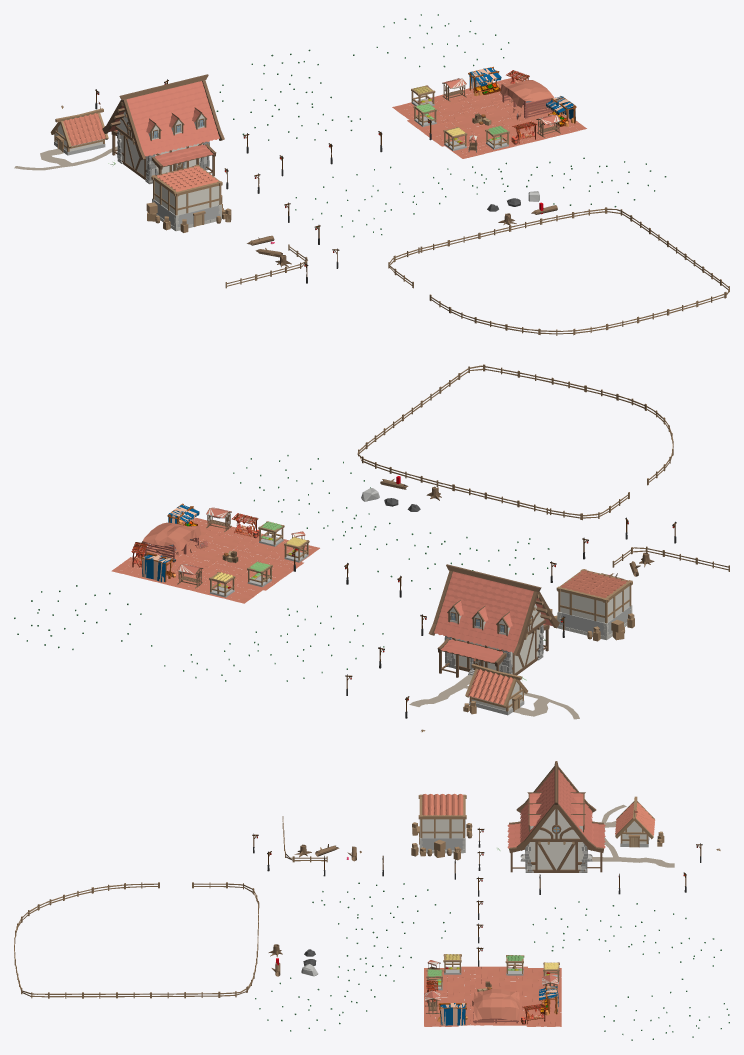
Rendered from chunk_2_1_lod0.glb.
3 renders of one model, top to bottom at view 1: azimuth 30°, elevation 25°; view 2: azimuth 150°, elevation 25°; view 3: azimuth 270°, elevation 25°, orthographic. The views are drawn at different scales.
Parts seen in each view (by area): view 1: Batched_Chunk_2_1; view 2: Batched_Chunk_2_1; view 3: Batched_Chunk_2_1.
Part boxes in pixels (x1=…): Batched_Chunk_2_1: x1=14, y1=14, x2=729, y2=335; Batched_Chunk_2_1: x1=14, y1=364, x2=729, y2=731; Batched_Chunk_2_1: x1=14, y1=761, x2=729, y2=1040.
Size of the model in its own units: 104 by 16.37 by 134.
54 materials, 1 textured.
